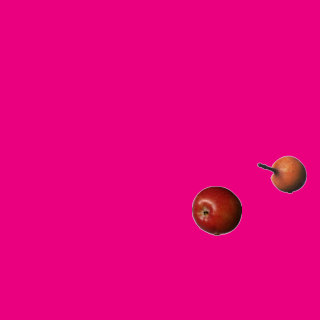Apple Braeburn: (191, 185, 241, 235)
Granadilla: (256, 149, 306, 199)
